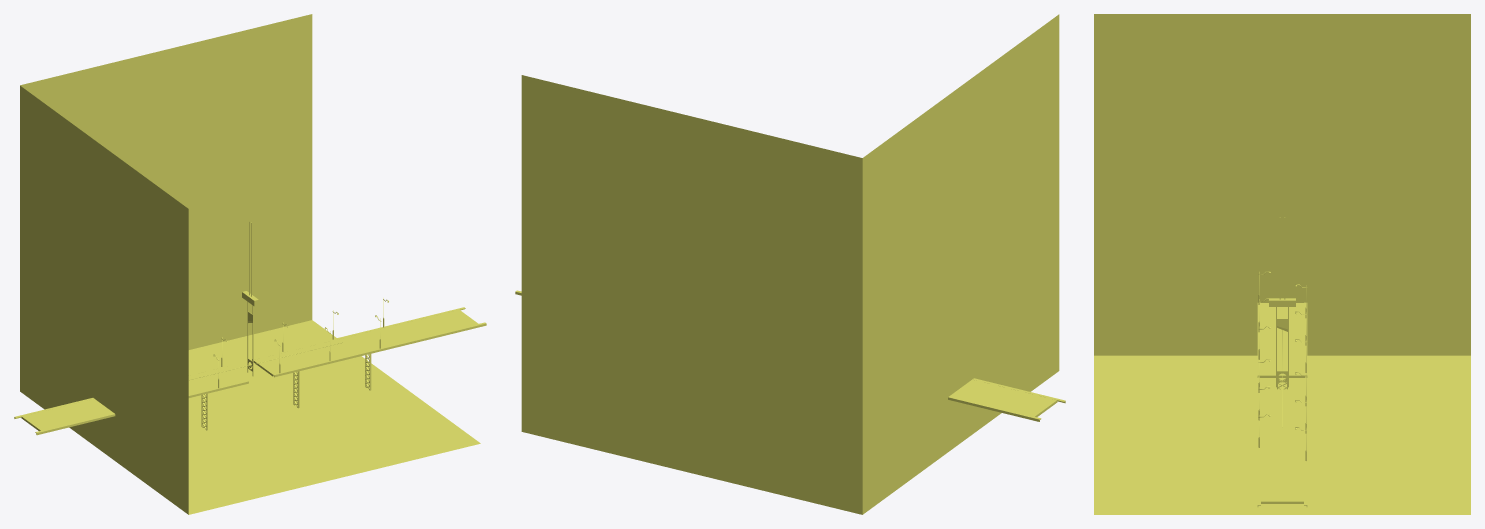
File: map3.fbx
3 views of the same model, side by side, from view 1: azimuth 30°, elevation 25°; view 2: azimuth 150°, elevation 25°; view 3: azimuth 270°, elevation 25° (orthographic). The views are drawn at different scales.
Visible parts, largest first — view 1: pCube33, pCube1, pCube1.001, pCube41; view 2: pCube33, pCube1.001, pCube41; view 3: pCube33, pCube1, pCube1.001, pCube41.
Boxes of the visible parts, x1=… form: pCube33: x1=20, y1=14, x2=480, y2=514; pCube1: x1=253, y1=310, x2=478, y2=376; pCube1.001: x1=21, y1=366, x2=246, y2=430; pCube41: x1=14, y1=307, x2=486, y2=435; pCube33: x1=521, y1=14, x2=1059, y2=514; pCube1.001: x1=950, y1=379, x2=1057, y2=416; pCube41: x1=515, y1=290, x2=1065, y2=421; pCube33: x1=1094, y1=14, x2=1470, y2=514; pCube1: x1=1261, y1=389, x2=1303, y2=503; pCube1.001: x1=1259, y1=303, x2=1305, y2=377; pCube41: x1=1257, y1=302, x2=1307, y2=506.
Size of the model in its own units: 2801 by 1825 by 1821.
